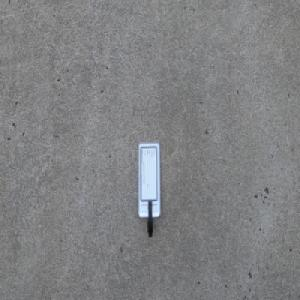LuggageTag: (137, 140, 161, 239)
